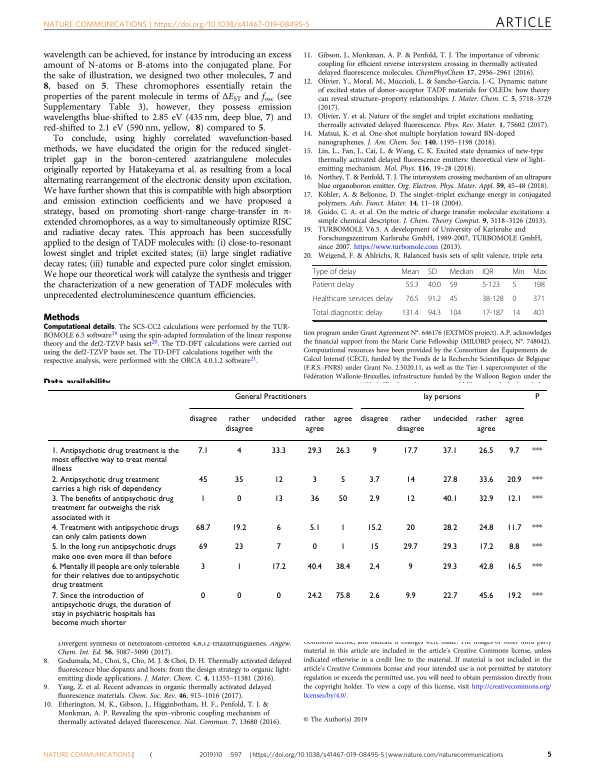borderless: (46, 388, 548, 636), (311, 264, 546, 320)
cell: (50, 591, 171, 628), (50, 562, 180, 590), (50, 446, 179, 474), (50, 494, 174, 523), (50, 542, 176, 562), (50, 523, 179, 542), (50, 475, 162, 494), (312, 295, 394, 305), (233, 392, 307, 402), (312, 309, 384, 319), (395, 415, 425, 434), (224, 415, 253, 434), (303, 415, 326, 434), (474, 415, 497, 434), (312, 281, 355, 291), (312, 268, 357, 277), (422, 392, 461, 402), (260, 415, 296, 424), (432, 415, 468, 424), (359, 415, 389, 424), (188, 415, 217, 424), (481, 295, 505, 305), (481, 309, 505, 319), (449, 268, 474, 277), (481, 281, 501, 291), (401, 309, 420, 319), (332, 415, 353, 424), (504, 415, 524, 424), (400, 268, 420, 277), (334, 562, 351, 572), (334, 591, 351, 601), (270, 446, 286, 456), (306, 446, 322, 456), (334, 446, 350, 456), (402, 446, 418, 456), (442, 446, 458, 456), (478, 446, 494, 456), (442, 475, 458, 485), (478, 475, 494, 485), (506, 475, 522, 485), (442, 494, 458, 504), (478, 494, 494, 504), (506, 494, 522, 504), (195, 523, 211, 533), (231, 523, 247, 533), (366, 523, 382, 533), (442, 523, 458, 533), (478, 523, 494, 533), (506, 523, 522, 533), (402, 542, 418, 552), (442, 542, 458, 552), (478, 542, 494, 552), (270, 562, 286, 572), (306, 562, 322, 572), (442, 562, 458, 572), (478, 562, 494, 572), (506, 562, 522, 572), (306, 591, 322, 601), (442, 591, 458, 601), (478, 591, 494, 601), (506, 591, 522, 601), (405, 281, 420, 291), (427, 281, 442, 291), (405, 295, 420, 305), (427, 295, 442, 305), (427, 309, 442, 319), (532, 281, 546, 291), (532, 295, 546, 305), (532, 309, 546, 319), (532, 268, 547, 277), (449, 309, 462, 319), (511, 268, 525, 277), (197, 446, 209, 456), (508, 446, 520, 456), (531, 446, 543, 456), (368, 475, 380, 485), (531, 475, 543, 485), (368, 494, 380, 504), (531, 494, 543, 504), (308, 523, 320, 533), (531, 523, 543, 533), (508, 542, 520, 552), (531, 542, 543, 552), (368, 562, 380, 572), (531, 562, 543, 572), (368, 591, 380, 601), (404, 591, 416, 601), (531, 591, 543, 601), (481, 268, 494, 277), (309, 494, 320, 504), (337, 494, 348, 504), (198, 475, 208, 485), (234, 475, 244, 485), (273, 475, 283, 485), (405, 475, 415, 485), (273, 494, 283, 504), (405, 494, 415, 504), (405, 523, 415, 533), (198, 542, 208, 552), (234, 542, 244, 552), (369, 542, 379, 552), (511, 309, 521, 319), (427, 268, 438, 277), (449, 281, 458, 291), (449, 295, 458, 305), (339, 475, 346, 485), (339, 523, 346, 533), (339, 542, 346, 552), (534, 392, 540, 402), (236, 446, 242, 456), (371, 446, 377, 456), (311, 475, 317, 485), (200, 494, 206, 504), (236, 494, 242, 504), (275, 523, 281, 533), (275, 542, 281, 552), (311, 542, 317, 552), (200, 562, 206, 572), (236, 562, 242, 572), (407, 562, 413, 572), (200, 591, 206, 601), (236, 591, 242, 601), (275, 591, 281, 601), (511, 281, 517, 291), (511, 295, 517, 305)
